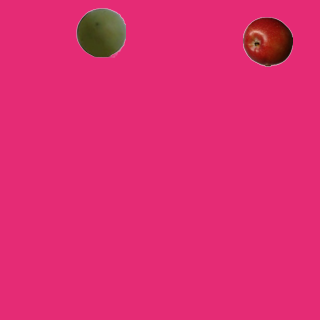Apple Braeburn: (242, 16, 292, 66)
Grape White 4: (75, 7, 125, 57)
